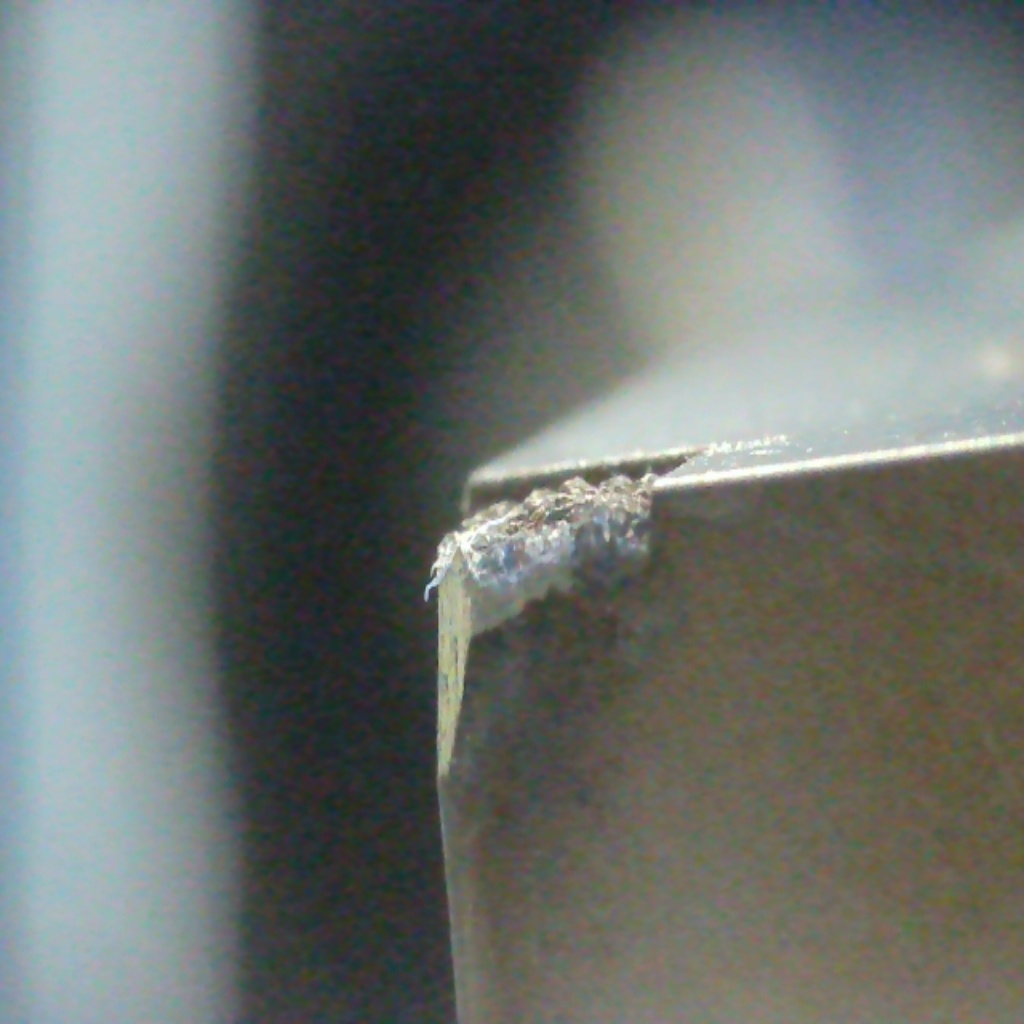flank_wear: (432, 548, 573, 796)
